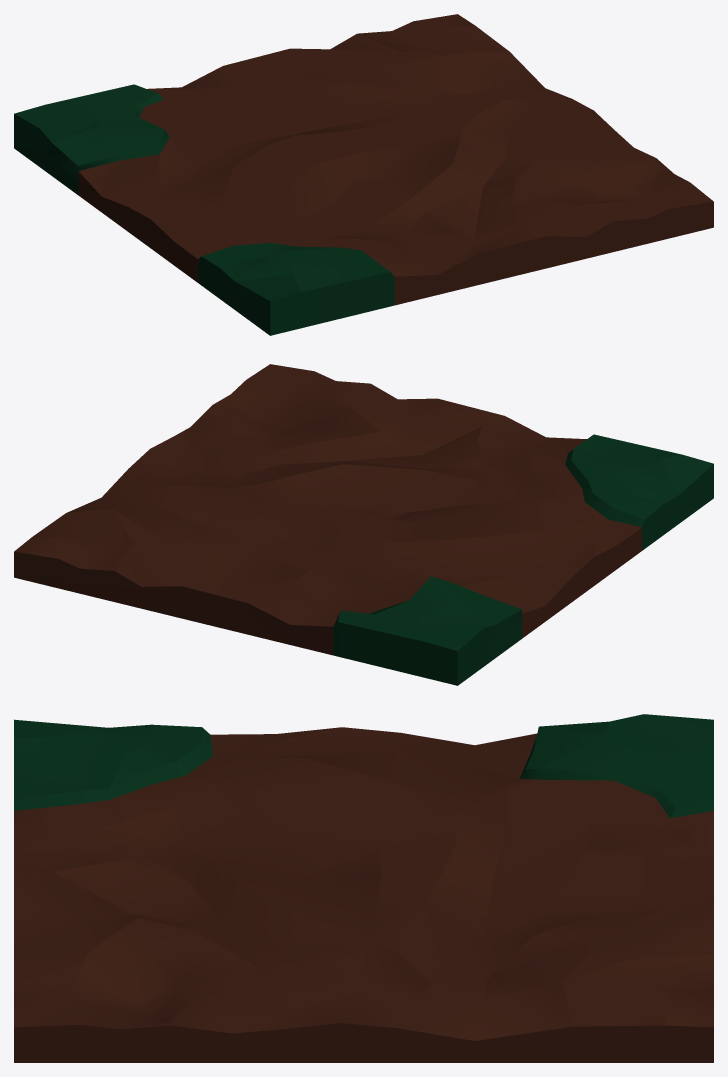
Rendered from Ground_Path_Entrance_L.fbx.
3 views of the same model, one above another, from view 1: azimuth 30°, elevation 25°; view 2: azimuth 150°, elevation 25°; view 3: azimuth 270°, elevation 25° (orthographic). The views are drawn at different scales.
Parts seen in each view (by area): view 1: Ground_Path_Entrance_L; view 2: Ground_Path_Entrance_L; view 3: Ground_Path_Entrance_L.
Part boxes in pixels (bbox=[...]): Ground_Path_Entrance_L: bbox=[14, 14, 713, 335]; Ground_Path_Entrance_L: bbox=[14, 364, 713, 685]; Ground_Path_Entrance_L: bbox=[14, 714, 713, 1062].
Bounding box in the file's own units: 147 × 13.39 × 147.
